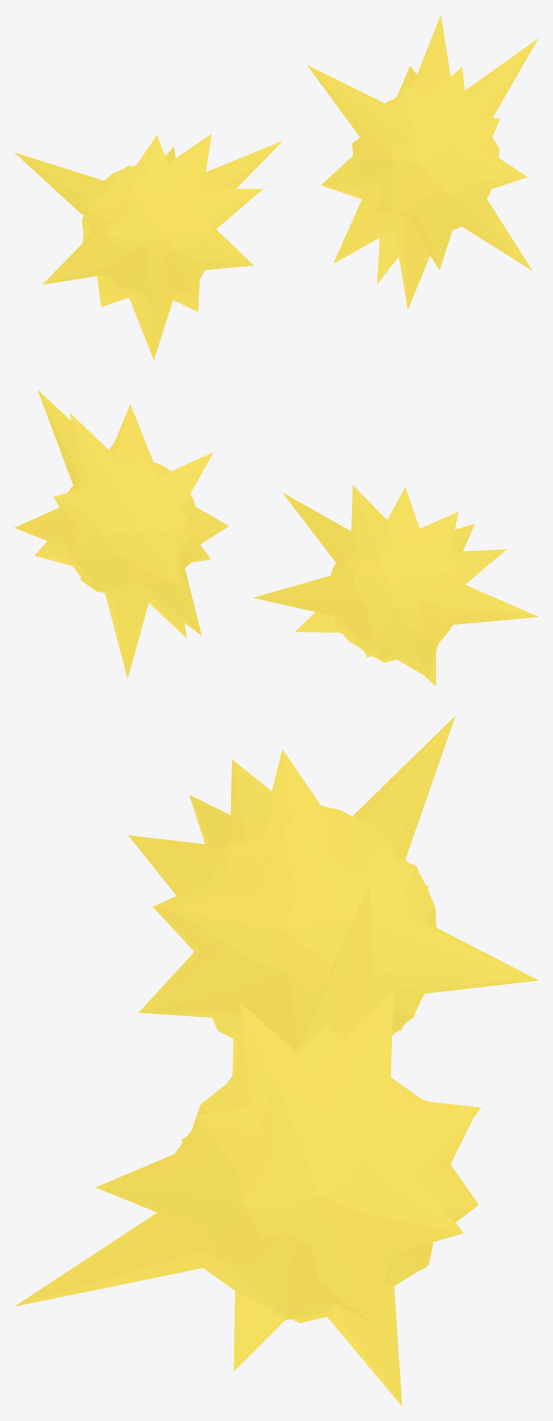
File: spark.glb
The picture shows the model from 3 angles, top to bottom: view 1: azimuth 30°, elevation 25°; view 2: azimuth 150°, elevation 25°; view 3: azimuth 270°, elevation 25°; orthographic projection. The views are drawn at different scales.
Parts seen in each view (by area): view 1: Icosphere_output.001, Icosphere_output; view 2: Icosphere_output.001, Icosphere_output; view 3: Icosphere_output.001, Icosphere_output.
Part boxes in pixels (bbox=[...]): Icosphere_output.001: bbox=[307, 15, 538, 309]; Icosphere_output: bbox=[14, 134, 282, 359]; Icosphere_output.001: bbox=[14, 389, 228, 678]; Icosphere_output: bbox=[253, 485, 538, 685]; Icosphere_output.001: bbox=[14, 885, 480, 1405]; Icosphere_output: bbox=[128, 716, 538, 1075].
Bounding box in the file's own units: 1.92 × 0.9304 × 0.9394.
